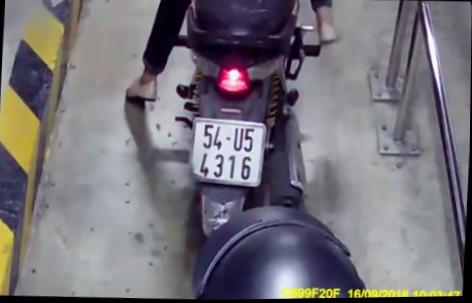LP: (187, 116, 269, 190)
